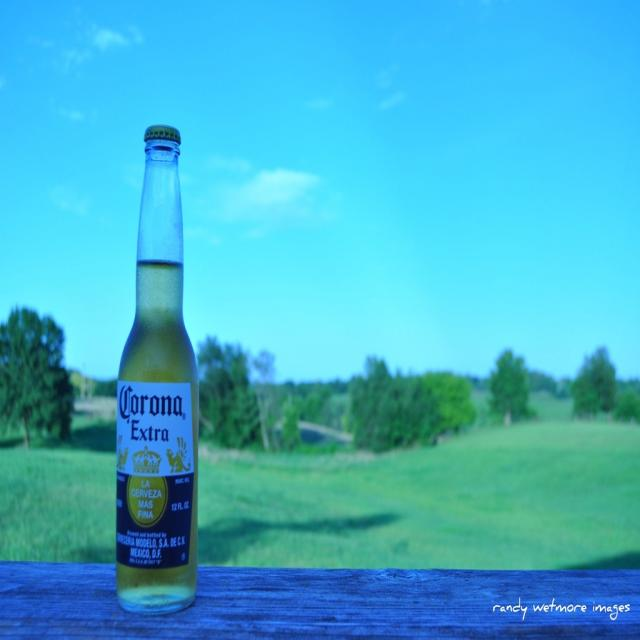corona: (118, 382, 196, 571)
